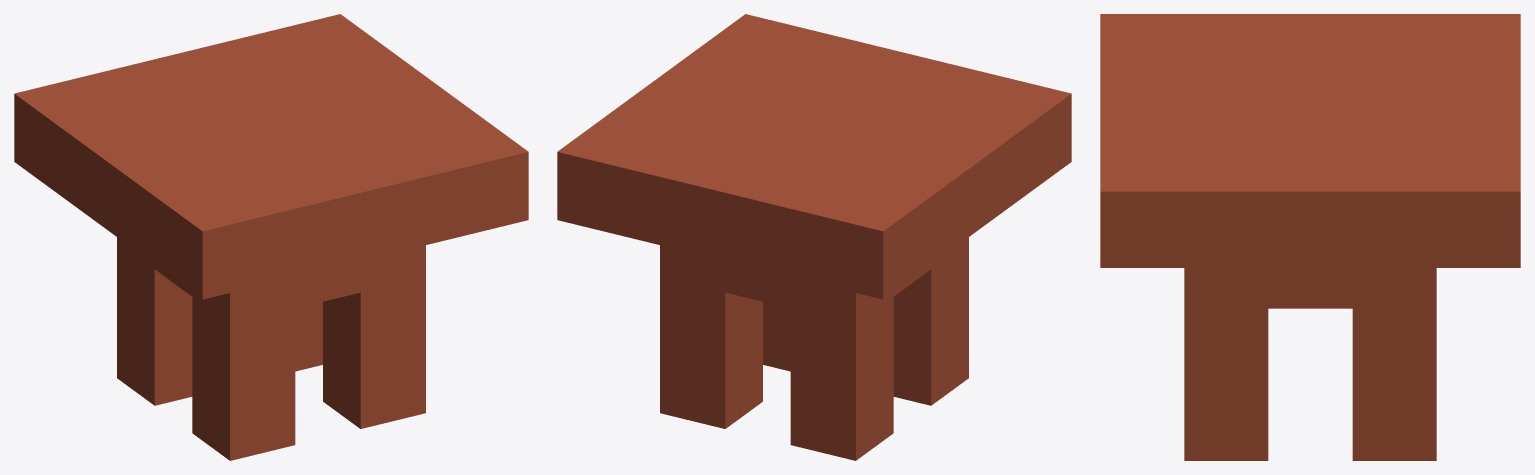
Rendered from small_bench_a.obj.
3 renders of one model, left to right at view 1: azimuth 30°, elevation 25°; view 2: azimuth 150°, elevation 25°; view 3: azimuth 270°, elevation 25°, orthographic. The views are drawn at different scales.
Bounding box in the file's own units: 0.5 × 0.4 × 0.5.
Materials: 1 (1 with a texture image).
